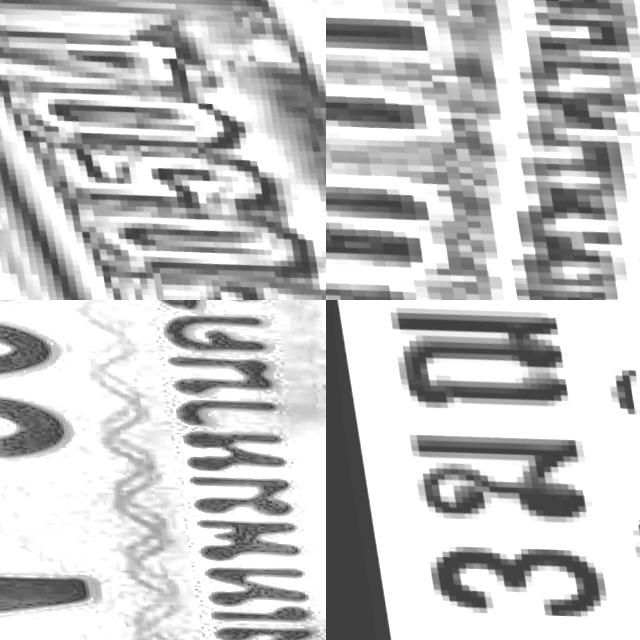license-plate: (0, 300, 326, 640), (326, 300, 640, 640), (0, 0, 326, 300), (326, 0, 640, 300)
